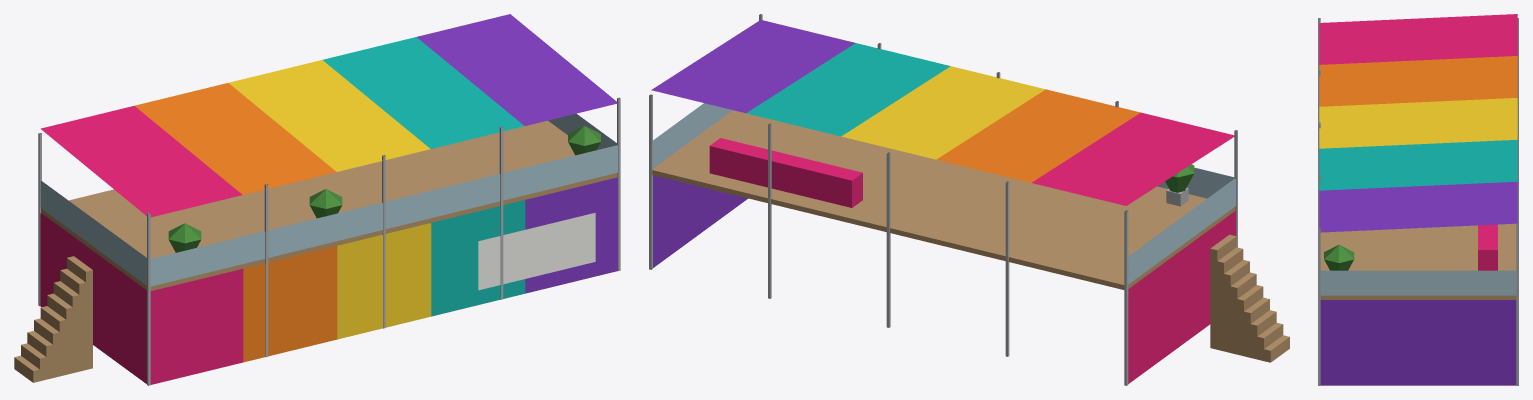
The model's file is fest_vip_deck.glb.
The picture shows the model from 3 angles, left to right: view 1: azimuth 30°, elevation 25°; view 2: azimuth 150°, elevation 25°; view 3: azimuth 270°, elevation 25°; orthographic projection. The views are drawn at different scales.
Visible parts, largest first — view 1: kp_vip_deck; view 2: kp_vip_deck; view 3: kp_vip_deck.
Boxes of the visible parts, x1,y1,x2,y2 form: kp_vip_deck: (14,14,620,385); kp_vip_deck: (649,14,1289,385); kp_vip_deck: (1318,14,1518,385).
Bounding box in the file's own units: 23.64 × 7.2 × 8.1.
Materials: 2 (1 with a texture image).
